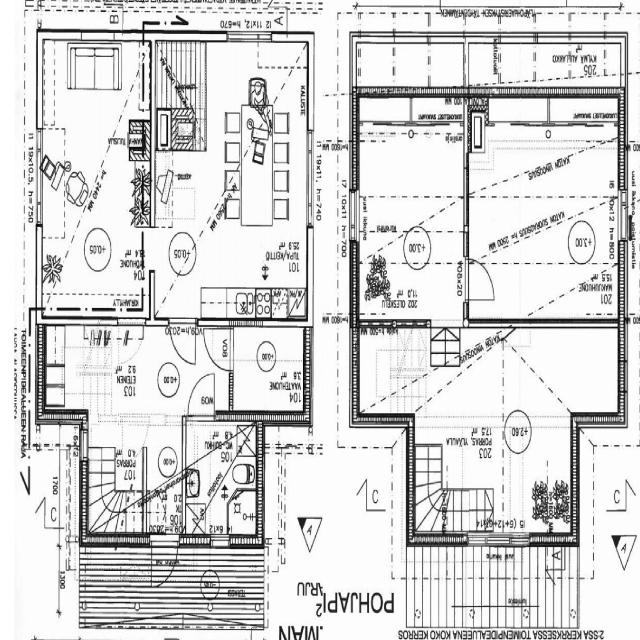door: (151, 533, 177, 588), (188, 372, 214, 421), (203, 327, 233, 369), (464, 258, 494, 300), (169, 318, 195, 364)
